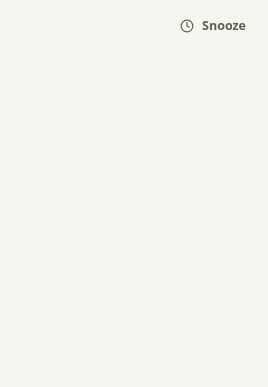
Test case: a server failure is surfaced, not swallowed
Press Enter in the button with aria-label "snooze this thread", box x1=170 y1=12 x2=256 y2=40
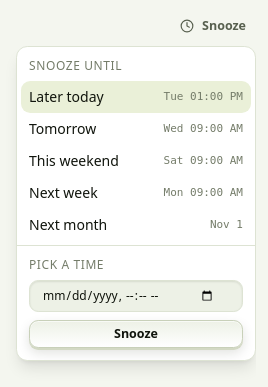
Click the text "Tomorrow": [63, 128] box x1=29 y1=119 x2=96 y2=138
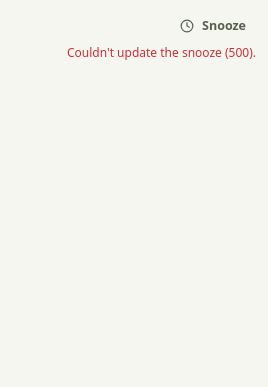
Check: the message shows "Couldn't update the snooze", box x1=67 y1=44 x2=256 y2=61
